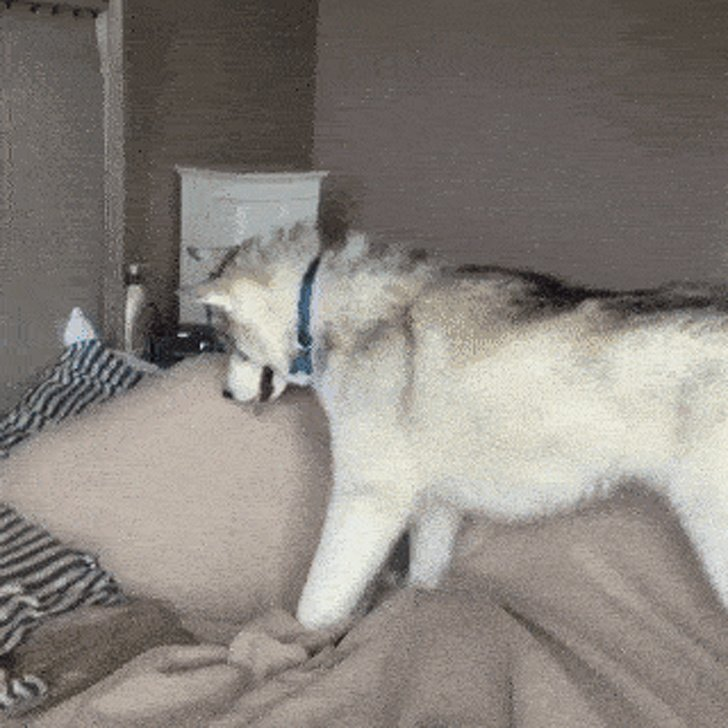husky: (161, 192, 728, 630)
